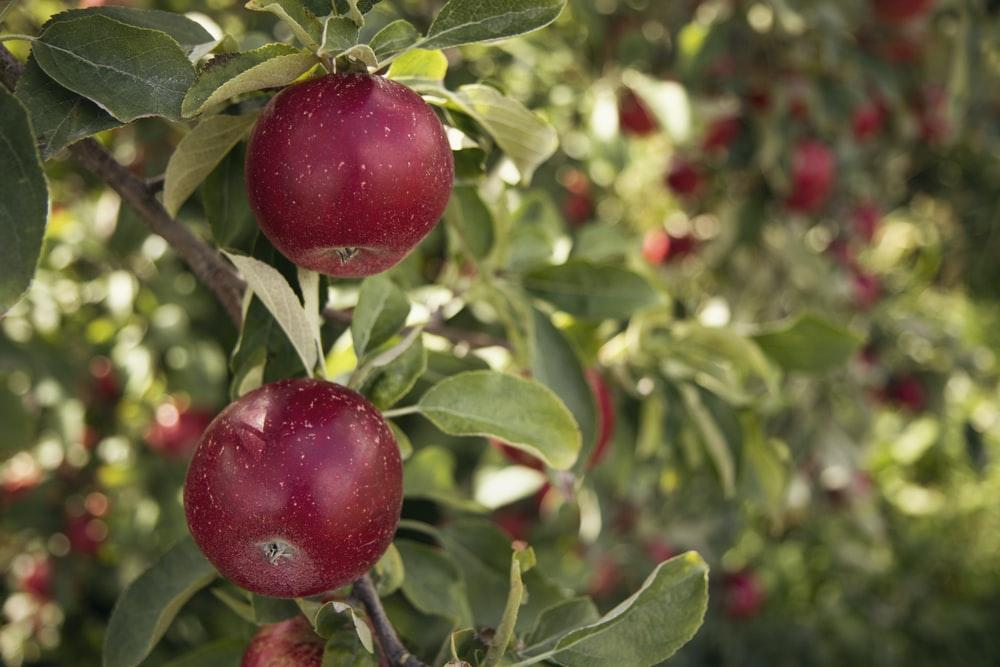apple: (184, 380, 403, 598), (249, 73, 455, 277)
